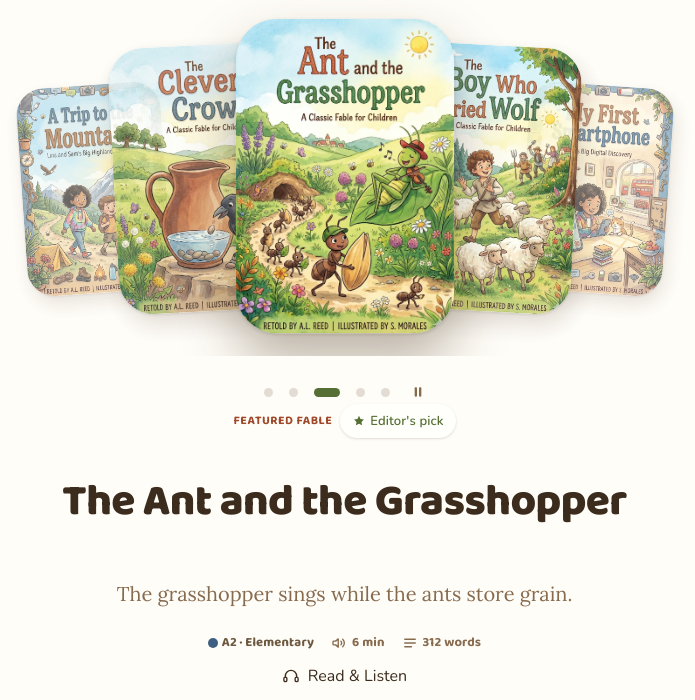
Test: FeaturedHero › exposes a Pause/Play toggle (default playing) that pauses auto-rotation
Click the button named "Pause featured stories": (418, 392) [406,380,430,404]
Wait 20000 ms
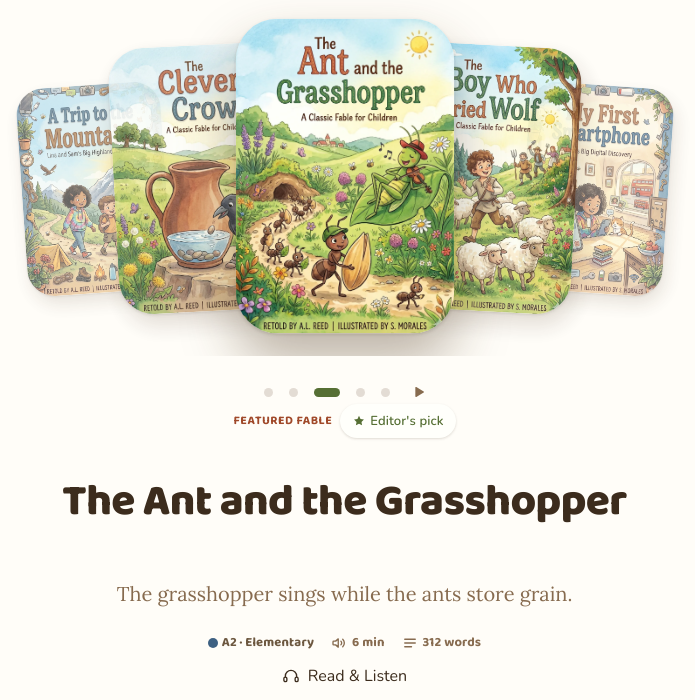
Check: the heading "The Ant and the Grasshopper" is shown, box [62,450,627,554]
Check: the button named "Play featured stories" is shown, box [406,380,430,404]
